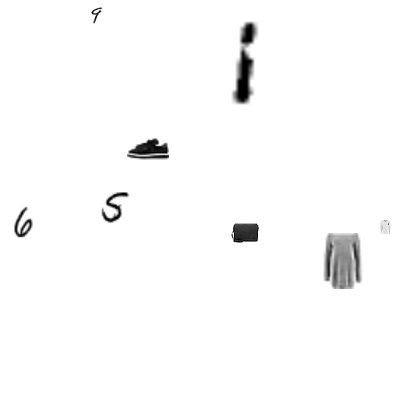1: (189, 7, 301, 119)
5: (93, 185, 135, 227)
6: (1, 204, 43, 246)
9: (85, 2, 107, 24)
Bag: (231, 219, 259, 247)
Dress: (314, 233, 370, 289)
Pullover: (378, 220, 392, 234)
Sneaker: (127, 128, 169, 170)
